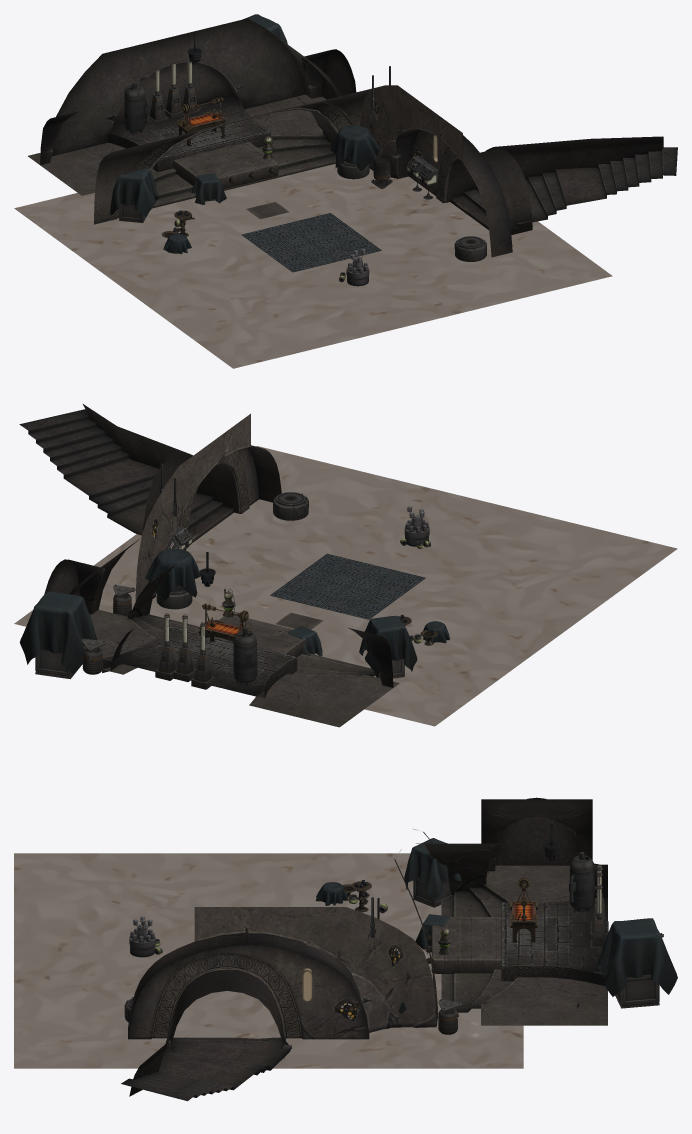
Rendered from env_tat_jabbaspalace_pre.glb.
3 renders of one model, top to bottom at view 1: azimuth 30°, elevation 25°; view 2: azimuth 150°, elevation 25°; view 3: azimuth 270°, elevation 25°, orthographic. The views are drawn at different scales.
Visible parts, largest first — view 1: tat_jp_floor_mesh, tat_jp_backroom_mesh, tat_jp_wall_arch_02_mesh, tat_jp_wall_arch_01_mesh, tat_jp_floor_grates_mesh, tat_jp_pedastal_mesh, brac_crate_03d_mesh (1), brac_drum_01b_mesh, brac_drum_02a_mesh, tat_jp_fire_pit_mesh, brac_crate_03d_mesh (2), brac_drum_01a_mesh (+2 smaller); view 2: tat_jp_floor_mesh, tat_jp_wall_arch_02_mesh, tat_jp_wall_arch_01_mesh, tat_jp_backroom_mesh, tat_jp_floor_grates_mesh, brac_crate_03d_mesh, brac_drum_01b_mesh, brac_crate_03d_mesh (1), tat_jp_pedastal_mesh, brac_drum_02a_mesh, tat_jp_fire_pit_mesh, brac_drum_01a_mesh (+8 smaller); view 3: tat_jp_floor_mesh, tat_jp_wall_arch_02_mesh, tat_jp_wall_arch_01_mesh, tat_jp_backroom_mesh, brac_crate_03d_mesh, tat_jp_pedastal_mesh, brac_crate_03d_mesh (1), brac_drum_02a_mesh, tat_jp_fire_pit_mesh, tat_jp_misc_02_mesh (1), brac_misc_03_mesh, brac_misc_01_mesh (+1 smaller).
Boxes of the visible parts, x1,y1,x2,y2 form: tat_jp_floor_mesh: (14, 164, 612, 368); tat_jp_backroom_mesh: (40, 18, 356, 172); tat_jp_wall_arch_02_mesh: (360, 85, 677, 257); tat_jp_wall_arch_01_mesh: (28, 87, 375, 224); tat_jp_floor_grates_mesh: (241, 213, 381, 272); tat_jp_pedastal_mesh: (173, 142, 278, 188); brac_crate_03d_mesh (1): (110, 168, 159, 222); brac_drum_01b_mesh: (330, 125, 380, 179); brac_drum_02a_mesh: (124, 82, 150, 134); tat_jp_fire_pit_mesh: (176, 97, 226, 146); brac_crate_03d_mesh (2): (191, 173, 226, 204); brac_drum_01a_mesh: (454, 236, 486, 261); tat_jp_floor_mesh: (14, 446, 677, 726); tat_jp_wall_arch_02_mesh: (19, 404, 281, 601); tat_jp_wall_arch_01_mesh: (82, 563, 399, 727); tat_jp_backroom_mesh: (44, 538, 393, 698); tat_jp_floor_grates_mesh: (270, 553, 425, 619); brac_crate_03d_mesh: (19, 591, 96, 679); brac_drum_01b_mesh: (145, 549, 200, 609); brac_crate_03d_mesh (1): (359, 615, 417, 678); tat_jp_pedastal_mesh: (215, 615, 307, 656); brac_drum_02a_mesh: (233, 627, 257, 685); tat_jp_fire_pit_mesh: (198, 603, 254, 642); brac_drum_01a_mesh: (273, 492, 308, 520); tat_jp_floor_mesh: (14, 853, 523, 1068); tat_jp_wall_arch_02_mesh: (121, 907, 436, 1101); tat_jp_wall_arch_01_mesh: (394, 828, 607, 1025); tat_jp_backroom_mesh: (481, 797, 607, 1008); brac_crate_03d_mesh: (596, 918, 677, 1008); tat_jp_pedastal_mesh: (425, 917, 501, 973); brac_crate_03d_mesh (1): (404, 838, 462, 907); brac_drum_02a_mesh: (569, 852, 594, 911); tat_jp_fire_pit_mesh: (510, 877, 537, 942); tat_jp_misc_02_mesh (1): (129, 916, 155, 957); brac_misc_03_mesh: (437, 999, 461, 1034); brac_misc_01_mesh: (590, 884, 605, 948).
Size of the model in its own units: 28.73 by 7.38 by 27.37.
Materials: 15 (15 with a texture image).
